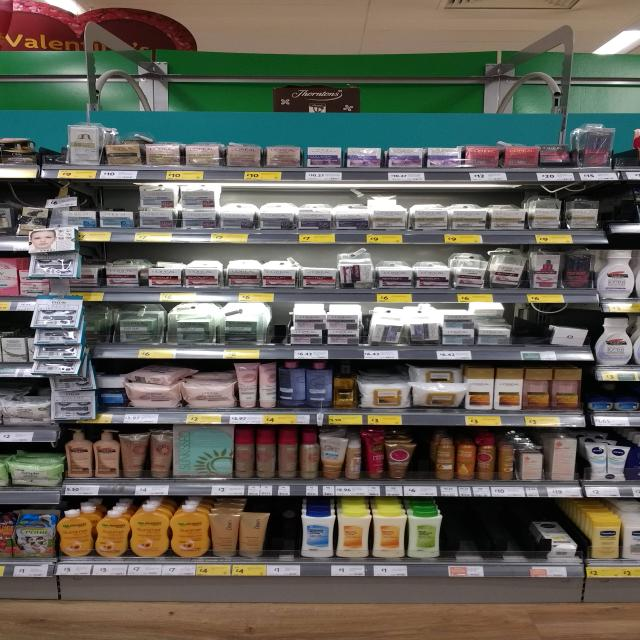unorganised: (286, 308, 362, 347), (56, 509, 95, 561), (93, 508, 132, 558), (533, 515, 577, 557), (411, 380, 468, 411), (489, 252, 527, 291), (124, 366, 190, 387), (147, 426, 172, 481), (360, 431, 387, 481), (257, 361, 282, 412), (102, 141, 144, 166), (586, 437, 608, 480), (371, 320, 406, 347), (339, 262, 372, 290)
